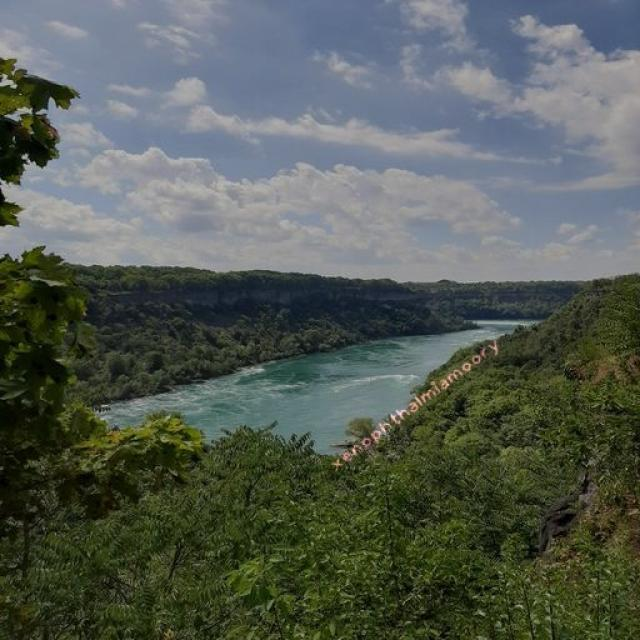watermark: (330, 331, 501, 474)
